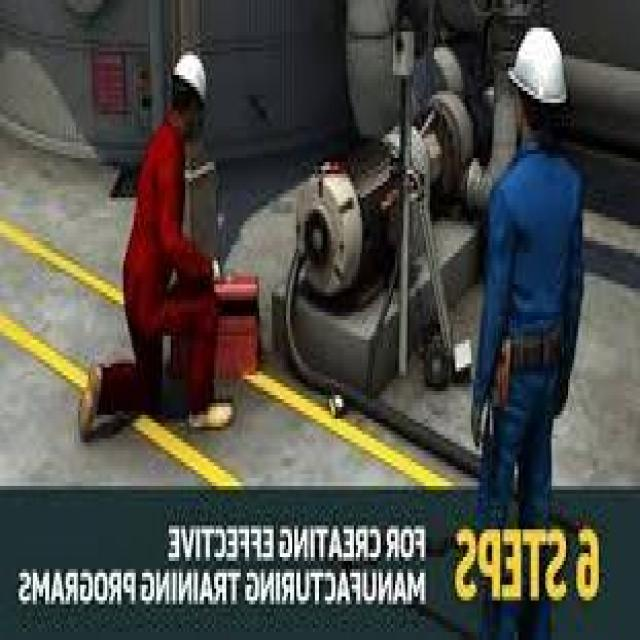Reflective-Jacket: (461, 138, 601, 431), (119, 111, 210, 304)
Safety-Helmet: (502, 20, 576, 119), (167, 40, 214, 119)
